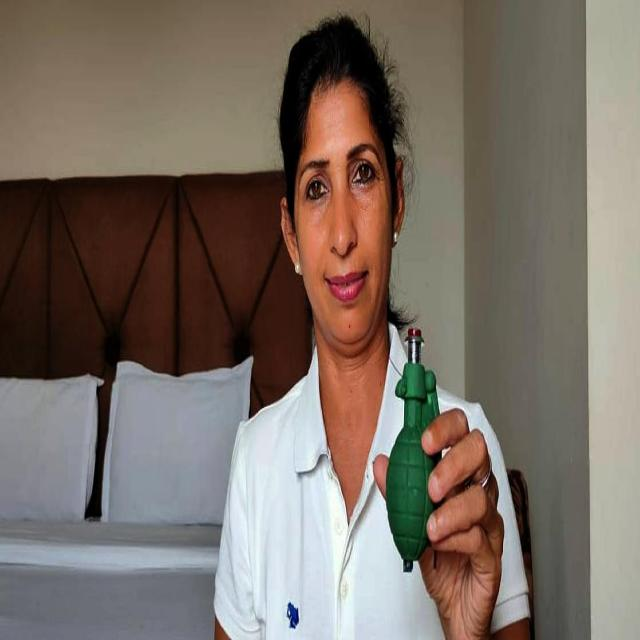grenade: (388, 330, 443, 572)
